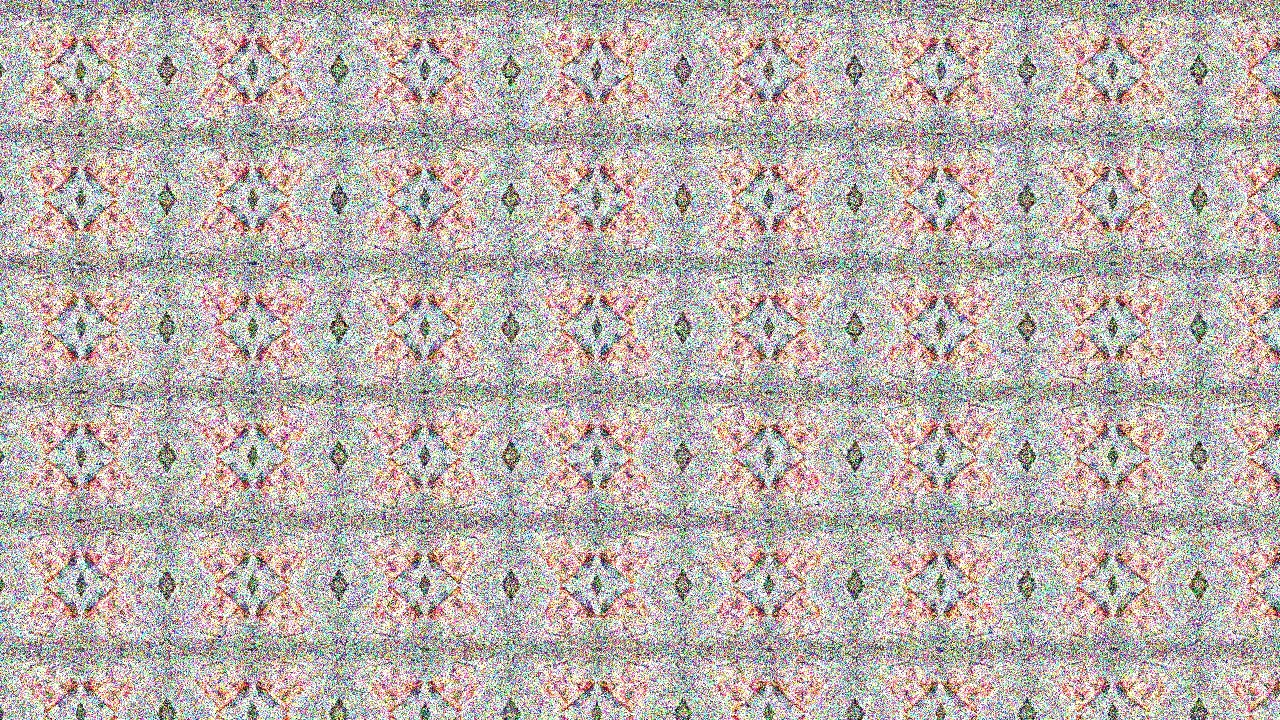chock: (27, 158, 79, 198), (251, 158, 303, 198), (372, 158, 424, 198), (424, 158, 476, 198), (545, 158, 597, 198), (769, 158, 821, 198), (890, 158, 942, 198), (942, 158, 994, 198), (1063, 158, 1115, 198), (27, 328, 79, 368), (251, 328, 303, 368), (372, 328, 424, 368), (424, 328, 476, 368), (545, 328, 597, 368), (769, 328, 821, 368), (890, 328, 942, 368), (942, 328, 994, 368), (1063, 328, 1115, 368), (27, 546, 79, 586), (251, 546, 303, 586), (372, 546, 424, 586), (424, 546, 476, 586), (545, 546, 597, 586), (769, 546, 821, 586), (890, 546, 942, 586), (942, 546, 994, 586), (1063, 546, 1115, 586), (79, 158, 130, 198), (200, 158, 251, 198), (597, 158, 648, 198), (718, 158, 769, 198), (1115, 158, 1166, 198), (79, 328, 130, 368), (200, 328, 251, 368), (597, 328, 648, 368), (718, 328, 769, 368), (1115, 328, 1166, 368), (79, 546, 130, 586), (200, 546, 251, 586), (597, 546, 648, 586), (718, 546, 769, 586), (1115, 546, 1166, 586), (27, 29, 79, 68), (251, 29, 303, 68), (372, 29, 424, 68), (424, 29, 476, 68), (545, 29, 597, 68), (769, 29, 821, 68), (890, 29, 942, 68), (942, 29, 994, 68), (1063, 29, 1115, 68), (27, 70, 79, 109), (251, 70, 303, 109), (372, 70, 424, 109), (424, 70, 476, 109), (545, 70, 597, 109), (769, 70, 821, 109), (890, 70, 942, 109), (942, 70, 994, 109), (1063, 70, 1115, 109), (27, 199, 79, 238), (251, 199, 303, 238), (372, 199, 424, 238), (424, 199, 476, 238), (545, 199, 597, 238), (769, 199, 821, 238), (890, 199, 942, 238), (942, 199, 994, 238), (1063, 199, 1115, 238), (27, 288, 79, 327), (251, 288, 303, 327), (372, 288, 424, 327), (424, 288, 476, 327), (545, 288, 597, 327), (769, 288, 821, 327), (890, 288, 942, 327), (942, 288, 994, 327), (1063, 288, 1115, 327), (27, 417, 79, 456), (251, 417, 303, 456), (372, 417, 424, 456), (424, 417, 476, 456), (545, 417, 597, 456), (769, 417, 821, 456), (890, 417, 942, 456), (942, 417, 994, 456), (1063, 417, 1115, 456), (27, 458, 79, 497), (251, 458, 303, 497), (372, 458, 424, 497), (424, 458, 476, 497), (545, 458, 597, 497), (769, 458, 821, 497), (890, 458, 942, 497), (942, 458, 994, 497), (1063, 458, 1115, 497), (27, 587, 79, 626), (251, 587, 303, 626), (372, 587, 424, 626), (424, 587, 476, 626), (545, 587, 597, 626), (769, 587, 821, 626), (890, 587, 942, 626), (942, 587, 994, 626), (1063, 587, 1115, 626), (27, 676, 79, 715), (251, 676, 303, 715), (372, 676, 424, 715), (424, 676, 476, 715), (545, 676, 597, 715), (769, 676, 821, 715), (890, 676, 942, 715), (942, 676, 994, 715), (1063, 676, 1115, 715), (79, 29, 130, 68), (200, 29, 251, 68), (597, 29, 648, 68), (718, 29, 769, 68), (1115, 29, 1166, 68), (79, 70, 130, 109), (200, 70, 251, 109), (597, 70, 648, 109), (718, 70, 769, 109), (1115, 70, 1166, 109), (79, 199, 130, 238), (200, 199, 251, 238), (597, 199, 648, 238), (718, 199, 769, 238), (1115, 199, 1166, 238), (79, 288, 130, 327), (200, 288, 251, 327), (597, 288, 648, 327), (718, 288, 769, 327), (1115, 288, 1166, 327), (79, 417, 130, 456), (200, 417, 251, 456), (597, 417, 648, 456), (718, 417, 769, 456), (1115, 417, 1166, 456), (79, 458, 130, 497), (200, 458, 251, 497), (597, 458, 648, 497), (718, 458, 769, 497), (1115, 458, 1166, 497), (79, 587, 130, 626), (200, 587, 251, 626), (597, 587, 648, 626), (718, 587, 769, 626), (1115, 587, 1166, 626), (79, 676, 130, 715), (200, 676, 251, 715), (597, 676, 648, 715), (718, 676, 769, 715), (1115, 676, 1166, 715), (1236, 158, 1280, 198), (1236, 328, 1280, 368), (1236, 546, 1280, 586), (1236, 29, 1280, 68), (1236, 70, 1280, 109), (1236, 199, 1280, 238), (1236, 288, 1280, 327), (1236, 417, 1280, 456), (1236, 458, 1280, 497), (1236, 587, 1280, 626), (1236, 676, 1280, 715), (27, 716, 79, 720), (251, 716, 303, 720), (372, 716, 424, 720), (424, 716, 476, 720), (545, 716, 597, 720), (769, 716, 821, 720), (890, 716, 942, 720), (942, 716, 994, 720), (1063, 716, 1115, 720), (79, 716, 130, 720), (200, 716, 251, 720), (597, 716, 648, 720), (718, 716, 769, 720), (1115, 716, 1166, 720), (1236, 716, 1280, 720)
